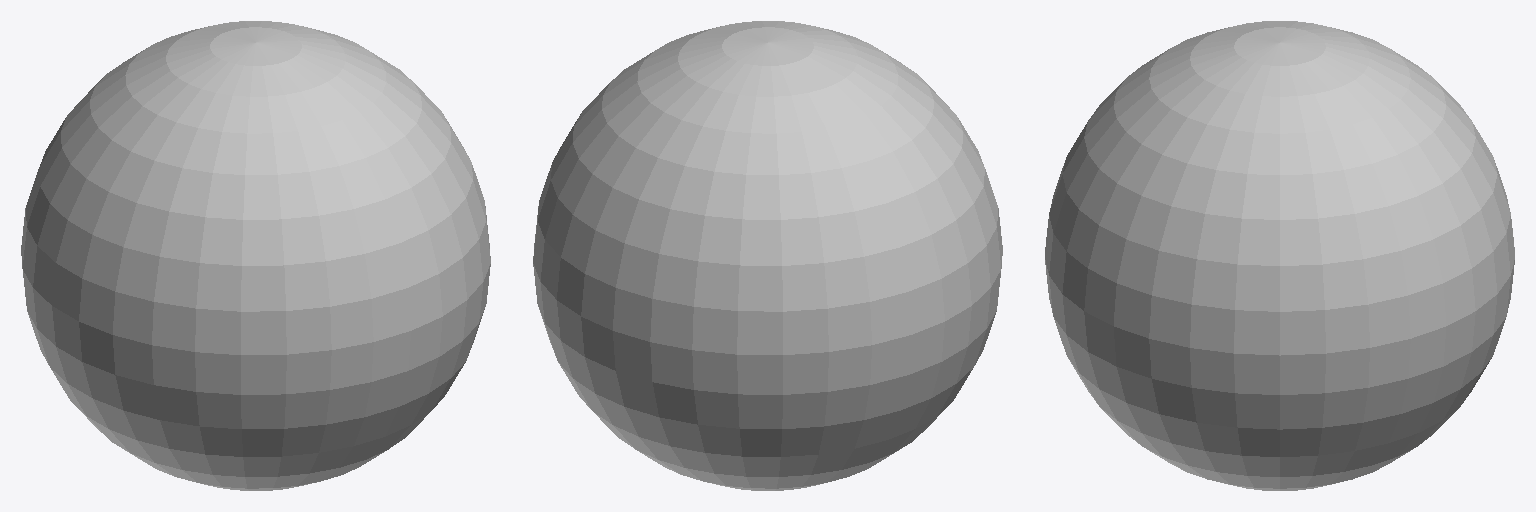
The model's file is lamplight.obj.
3 renders of one model, left to right at view 1: azimuth 30°, elevation 25°; view 2: azimuth 150°, elevation 25°; view 3: azimuth 270°, elevation 25°, orthographic.
Parts seen in each view (by area): view 1: Sphere; view 2: Sphere; view 3: Sphere.
Part boxes in pixels (x1,y1,x2,y2): Sphere: (21, 21, 490, 490); Sphere: (533, 21, 1002, 490); Sphere: (1045, 21, 1514, 490).
Size of the model in its own units: 0.2 by 0.2 by 0.2.